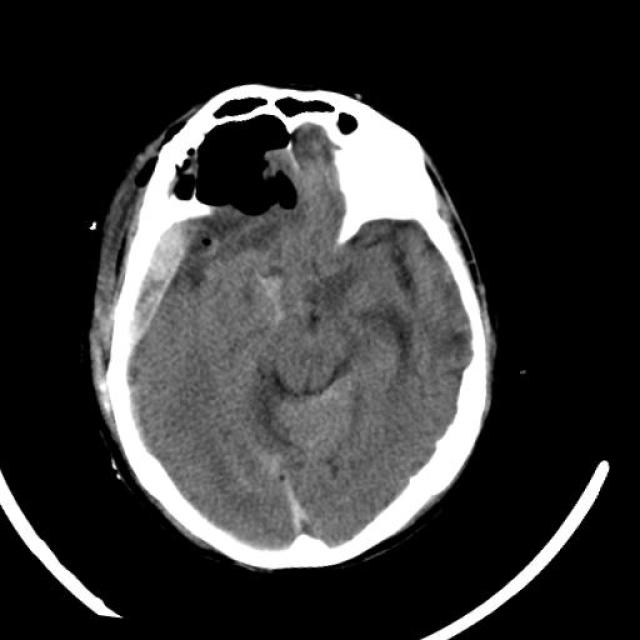Subdural: (76, 202, 196, 386)
